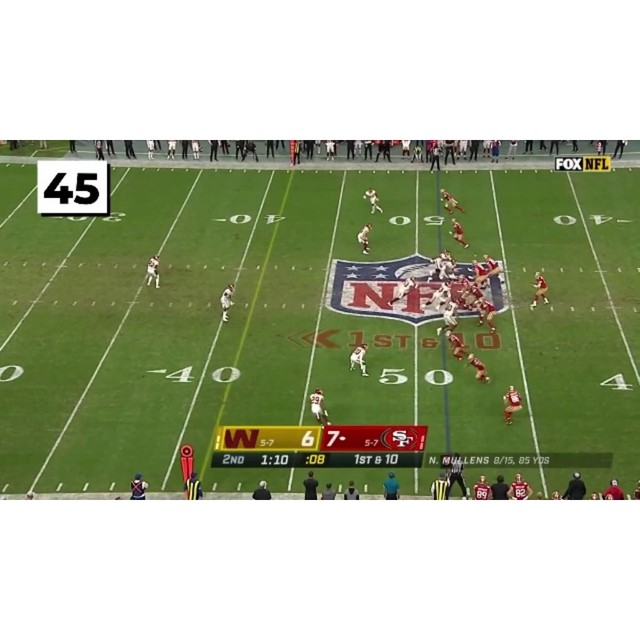american-football-player: (437, 299, 461, 337), (502, 385, 523, 425), (309, 387, 330, 426), (530, 270, 550, 308), (467, 353, 491, 384), (349, 342, 370, 377), (446, 332, 468, 364), (440, 189, 466, 216), (479, 297, 498, 333), (450, 218, 470, 249), (220, 283, 236, 321), (483, 254, 504, 282), (470, 259, 490, 288), (363, 188, 383, 214), (357, 222, 373, 254), (146, 254, 161, 288)
